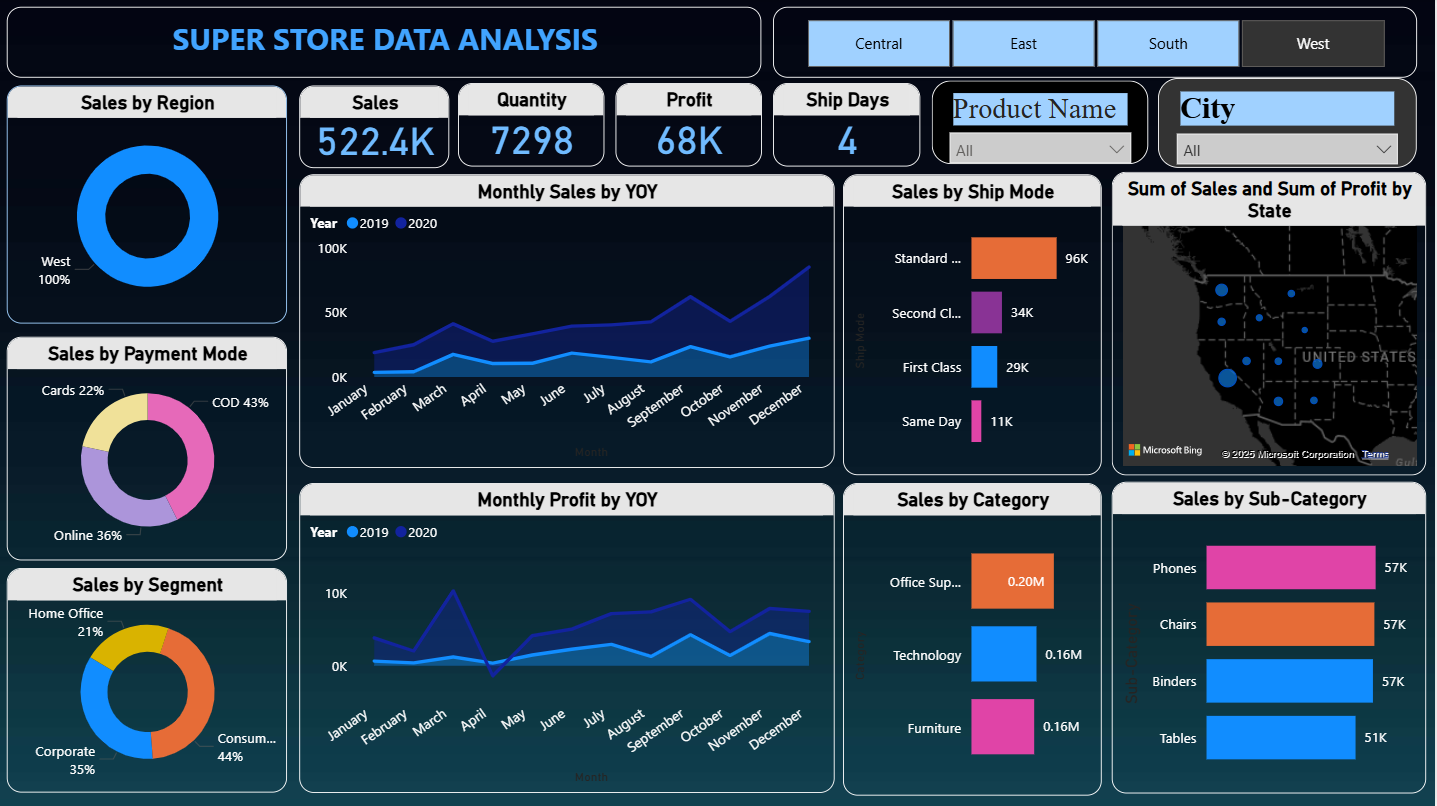

What the dashboard file says about the page in this screenshot:
{"tool":"powerbi","page":{"name":"Page 1","canvas":[1280,720],"ordinal":0},"visuals":[{"type":"clusteredBarChart","title":"Sales by Ship Mode","fields":{"Category":["SuperStore_Sales_Dataset.Ship Mode"],"Y":["Sum(SuperStore_Sales_Dataset.Sales)"]},"box":[752.8,156.8,230.4,267.8],"z":0},{"type":"clusteredBarChart","title":"Sales by Category","fields":{"Category":["SuperStore_Sales_Dataset.Category"],"Y":["Sum(SuperStore_Sales_Dataset.Sales)"]},"box":[752.8,431.9,230.4,278.7],"z":1000},{"type":"clusteredBarChart","title":"Sales by Sub-Category","fields":{"Category":["SuperStore_Sales_Dataset.Sub-Category"],"Y":["Sum(SuperStore_Sales_Dataset.Sales)"]},"box":[991.7,430.7,279.9,277.5],"z":2000},{"type":"stackedAreaChart","title":"Monthly Sales by YOY","fields":{"Category":["SuperStore_Sales_Dataset.Order Date.Variation.Date Hierarchy.Month"],"Y":["Sum(SuperStore_Sales_Dataset.Sales)"],"Series":["SuperStore_Sales_Dataset.Order Date.Variation.Date Hierarchy.Year"]},"box":[267.8,156.8,476.5,261.8],"z":3000},{"type":"stackedAreaChart","title":"Monthly Profit by YOY","fields":{"Category":["SuperStore_Sales_Dataset.Order Date.Variation.Date Hierarchy.Month"],"Series":["SuperStore_Sales_Dataset.Order Date.Variation.Date Hierarchy.Year"],"Y":["Sum(SuperStore_Sales_Dataset.Profit)"]},"box":[267.8,431.9,476.5,276.3],"z":4000},{"type":"map","fields":{"Category":["SuperStore_Sales_Dataset.State"],"Size":["Sum(SuperStore_Sales_Dataset.Sales)"]},"box":[991.7,154.4,279.9,270.2],"z":5000},{"type":"donutChart","title":"Sales by Segment","fields":{"Category":["SuperStore_Sales_Dataset.Segment"],"Y":["Sum(SuperStore_Sales_Dataset.Sales)"]},"box":[7.2,507.9,249.7,200.3],"z":6000},{"type":"donutChart","title":"Sales by Payment Mode","fields":{"Y":["Sum(SuperStore_Sales_Dataset.Sales)"],"Category":["SuperStore_Sales_Dataset.Payment Mode"]},"box":[7.2,301.6,249.7,199.1],"z":7000},{"type":"slicer","fields":{"Values":["SuperStore_Sales_Dataset.Region"]},"box":[690.2,7.8,573.3,63.5],"z":8000},{"type":"textbox","box":[7.8,7.8,672.4,63.5],"z":9000},{"type":"card","title":"Sales","fields":{"Values":["Sum(SuperStore_Sales_Dataset.Sales)"]},"box":[267.8,78.4,133.9,73.6],"z":10000},{"type":"card","title":"Ship Days","fields":{"Values":["Avg(SuperStore_Sales_Dataset.AvgDelivery)"]},"box":[690.1,76,131.5,74.8],"z":11000},{"type":"card","title":"Quantity","fields":{"Values":["Sum(SuperStore_Sales_Dataset.Quantity)"]},"box":[410.2,76,130.3,74.8],"z":12000},{"type":"card","title":"Profit","fields":{"Values":["Sum(SuperStore_Sales_Dataset.Profit)"]},"box":[550.1,76,130.3,74.8],"z":13000},{"type":"donutChart","title":"Sales by Region","fields":{"Category":["SuperStore_Sales_Dataset.Region"],"Y":["Sum(SuperStore_Sales_Dataset.Sales)"]},"box":[7.2,78.4,249.7,212.3],"z":14000},{"type":"slicer","fields":{"Values":["SuperStore_Sales_Dataset.City"]},"box":[1032.7,71.2,230.4,79.6],"z":14001},{"type":"slicer","fields":{"Values":["SuperStore_Sales_Dataset.Product Name"]},"box":[831.2,73.6,193,74.8],"z":14002}]}

Visuals, with their boxes in screenshot pixels (x1, y1, x2, y2), scaled from the page's 1280x720 canvas onto the 1437x806 screenshot:
"Sales by Ship Mode" clusteredBarChart: crop(845, 176, 1104, 475)
"Sales by Category" clusteredBarChart: crop(845, 483, 1104, 795)
"Sales by Sub-Category" clusteredBarChart: crop(1113, 482, 1428, 793)
"Monthly Sales by YOY" stackedAreaChart: crop(301, 176, 836, 469)
"Monthly Profit by YOY" stackedAreaChart: crop(301, 483, 836, 793)
map - SuperStore_Sales_Dataset.State x Sum(SuperStore_Sales_Dataset.Sales): crop(1113, 173, 1428, 475)
"Sales by Segment" donutChart: crop(8, 569, 288, 793)
"Sales by Payment Mode" donutChart: crop(8, 338, 288, 561)
slicer - SuperStore_Sales_Dataset.Region: crop(775, 9, 1418, 80)
textbox: crop(9, 9, 764, 80)
"Sales" card: crop(301, 88, 451, 170)
"Ship Days" card: crop(775, 85, 922, 169)
"Quantity" card: crop(461, 85, 607, 169)
"Profit" card: crop(618, 85, 764, 169)
"Sales by Region" donutChart: crop(8, 88, 288, 325)
slicer - SuperStore_Sales_Dataset.City: crop(1159, 80, 1418, 169)
slicer - SuperStore_Sales_Dataset.Product Name: crop(933, 82, 1150, 166)
